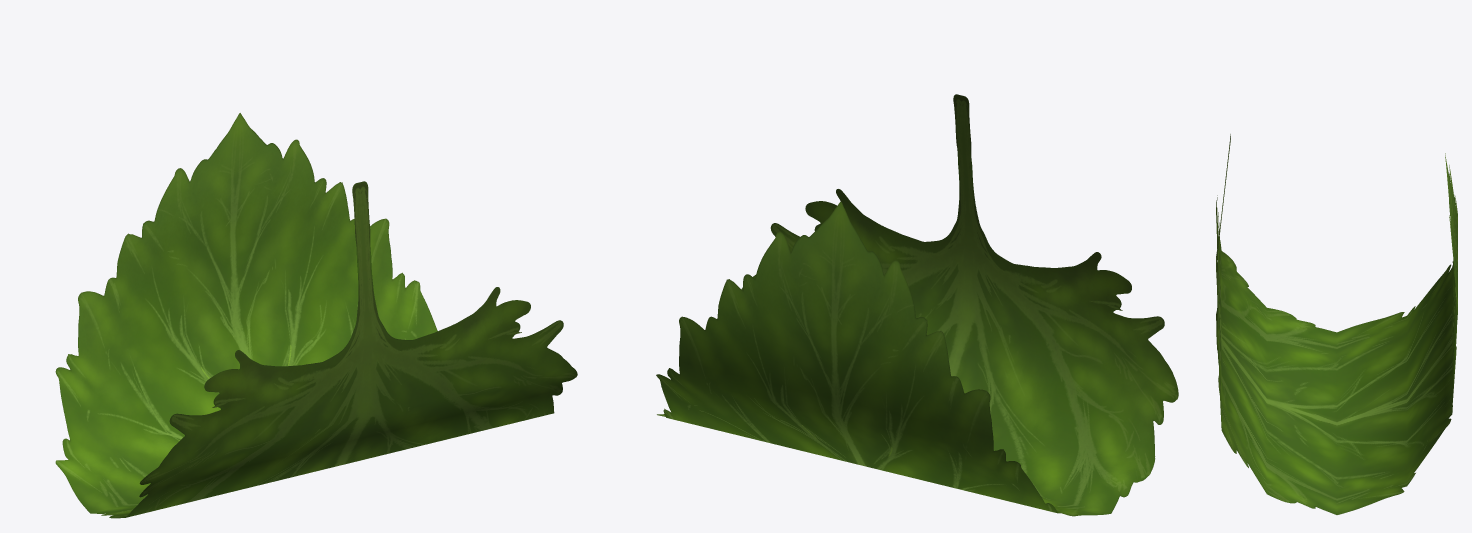
The model's file is ShisoLeafCuve.fbx.
3 renders of one model, left to right at view 1: azimuth 30°, elevation 25°; view 2: azimuth 150°, elevation 25°; view 3: azimuth 270°, elevation 25°, orthographic. The views are drawn at different scales.
Visible parts, largest first — view 1: ShisoLeafCurve; view 2: ShisoLeafCurve; view 3: ShisoLeafCurve.
Boxes of the visible parts, left/top/right/bottom form: ShisoLeafCurve: left=55, top=113, right=577, bottom=518; ShisoLeafCurve: left=656, top=94, right=1178, bottom=516; ShisoLeafCurve: left=1216, top=134, right=1457, bottom=514.
Bounding box in the file's own units: 16.57 × 12.78 × 8.9.
